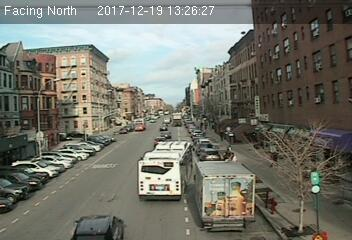bus: (136, 140, 193, 203)
car: (198, 149, 220, 160)
truck: (194, 161, 255, 234)
